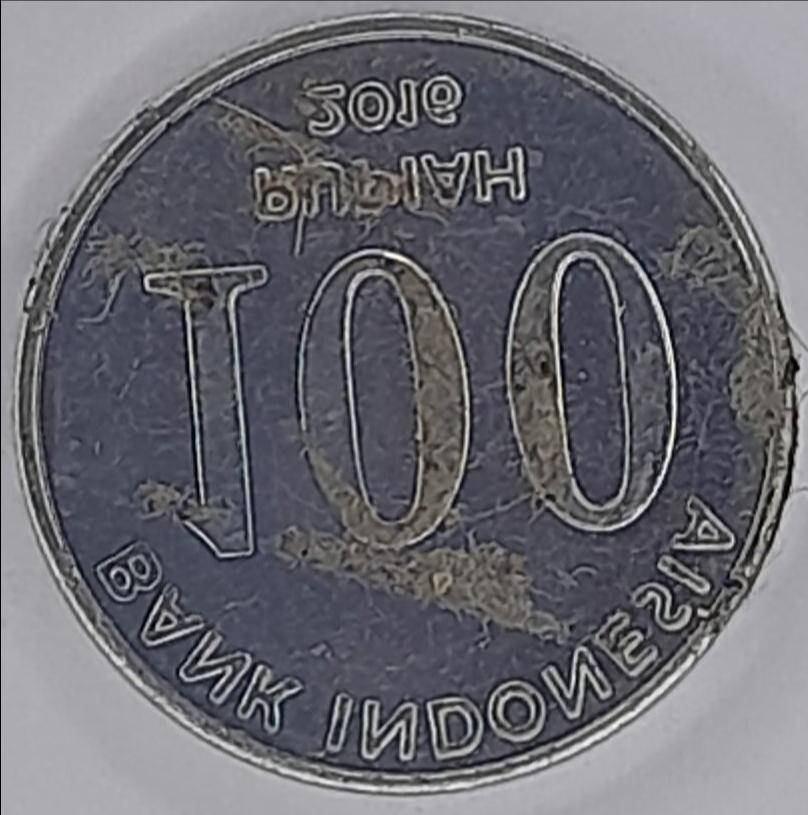coin_100_e2016: (9, 4, 806, 796)
